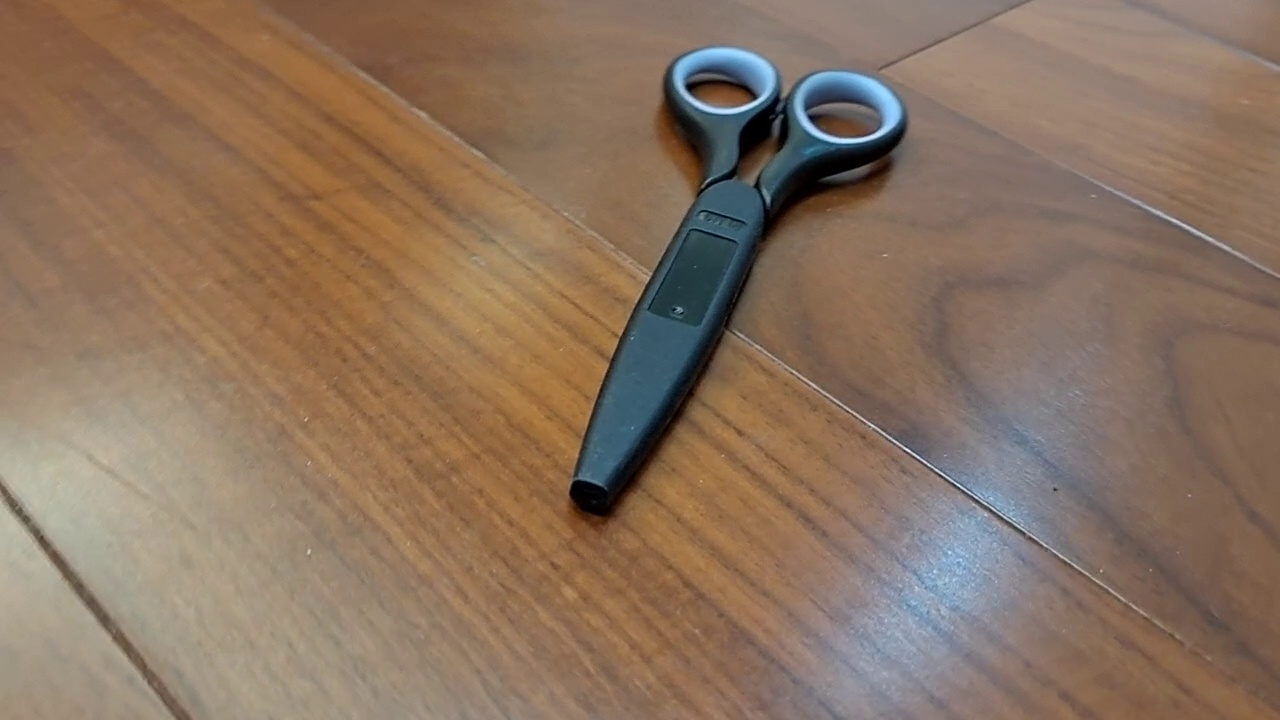scissors: (568, 42, 910, 519)
